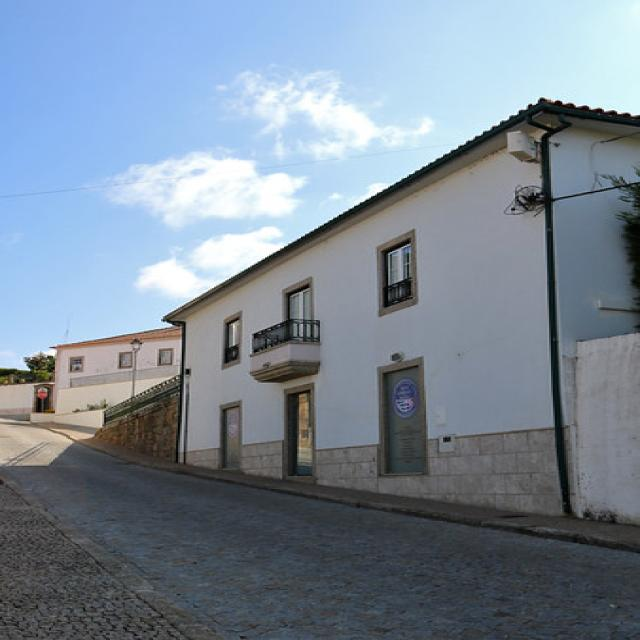building: (161, 92, 640, 534)
